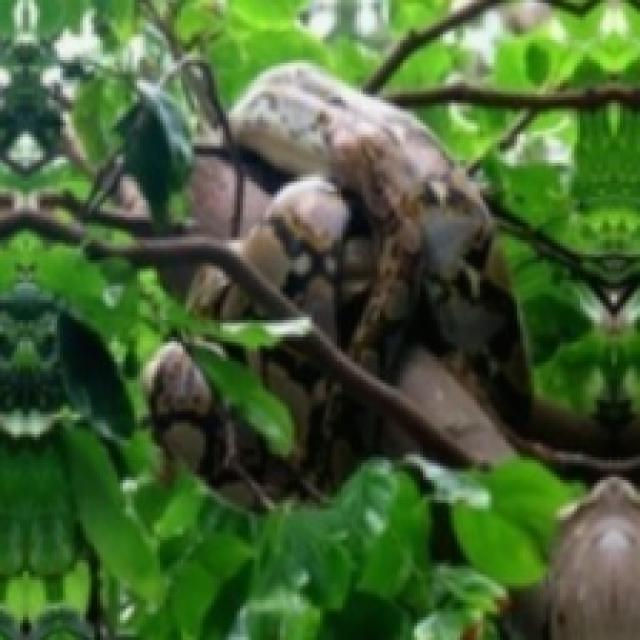reticulated python: (229, 63, 537, 463), (141, 341, 382, 507)
